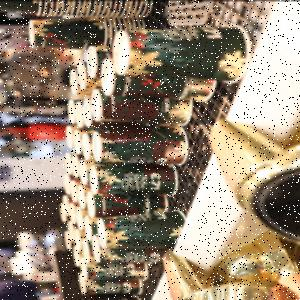Cup: (114, 24, 252, 84), (94, 124, 190, 166), (91, 89, 193, 127), (97, 209, 187, 250), (89, 164, 179, 197), (29, 17, 110, 50)
